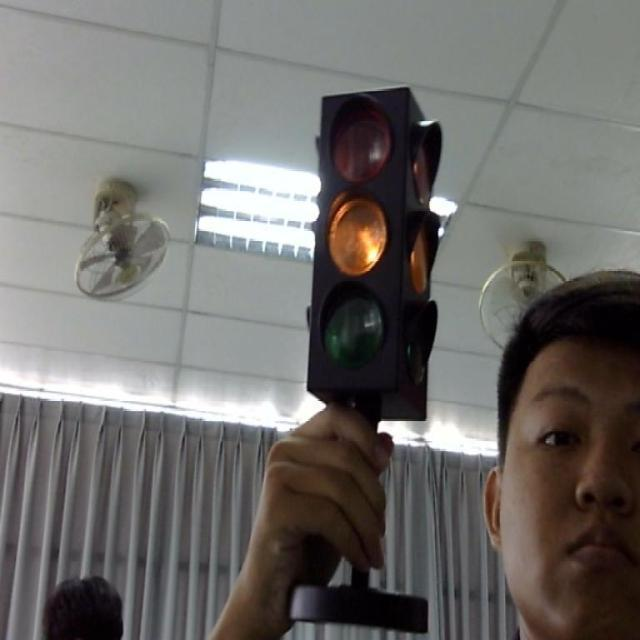yellow_light: (306, 86, 439, 418)
